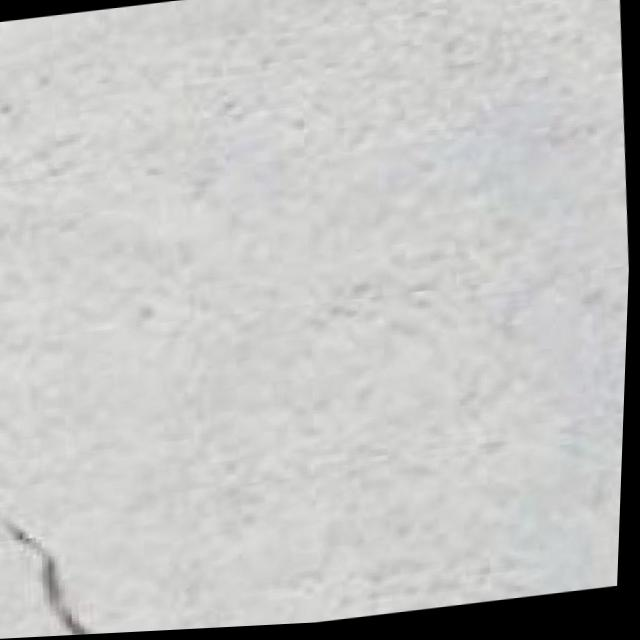Crack: (5, 484, 122, 639)
